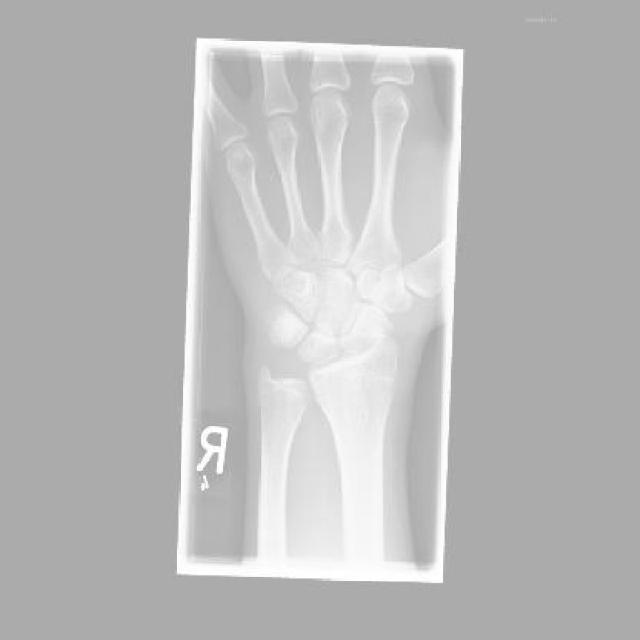Fracture: (316, 300, 365, 326)
